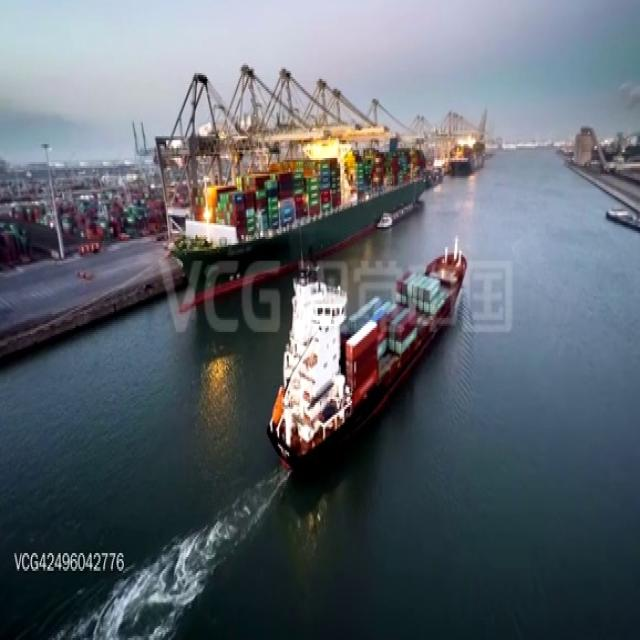cargoship: (279, 248, 478, 458), (149, 157, 445, 276)
